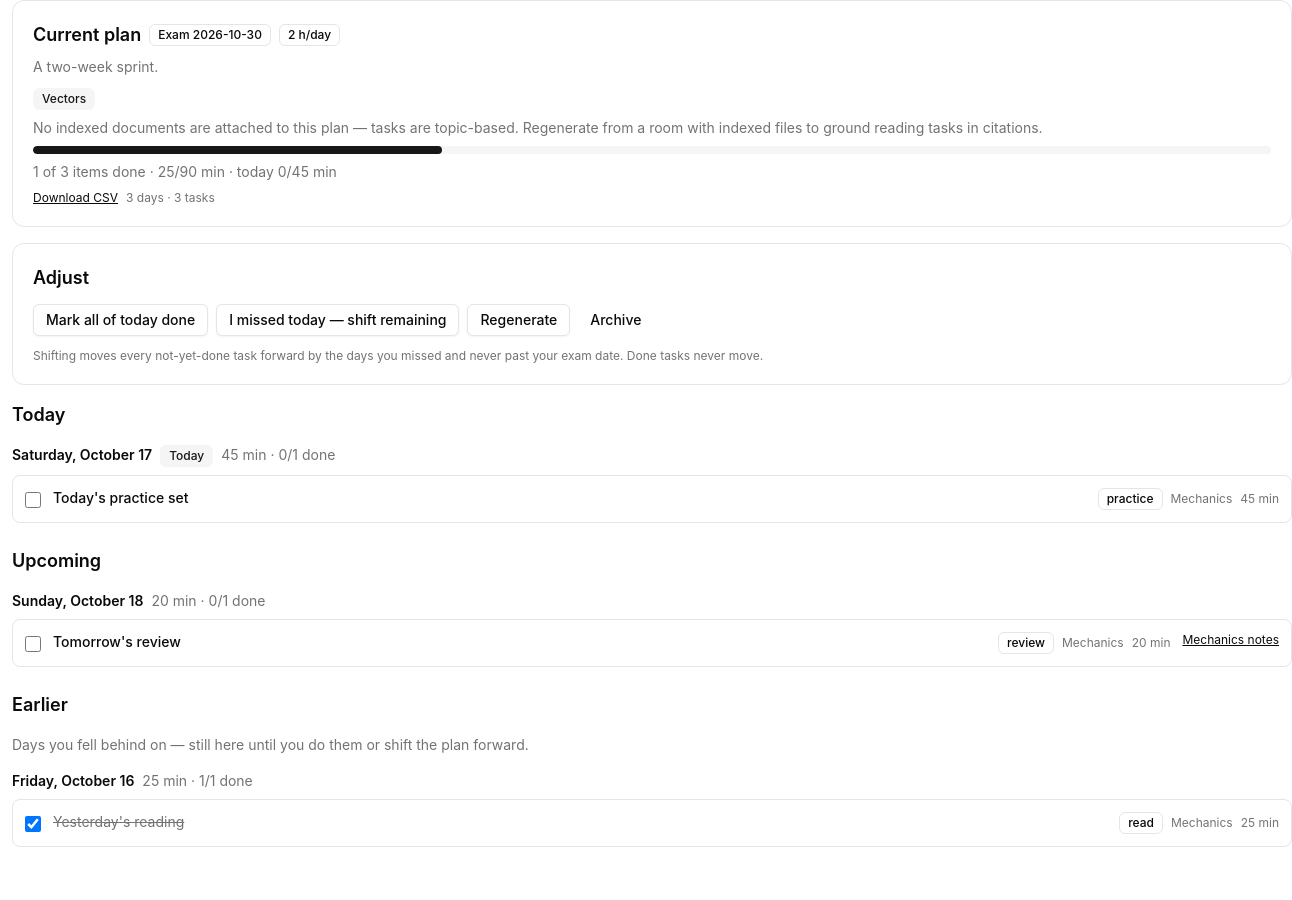
it: PlanView › toggles a checkbox optimistically and applies the server's done_at
This screenshot has width=1292, height=900.
Click the checkbox labelled "Today's practice set" at (33, 500), box x1=25 y1=492 x2=41 y2=508
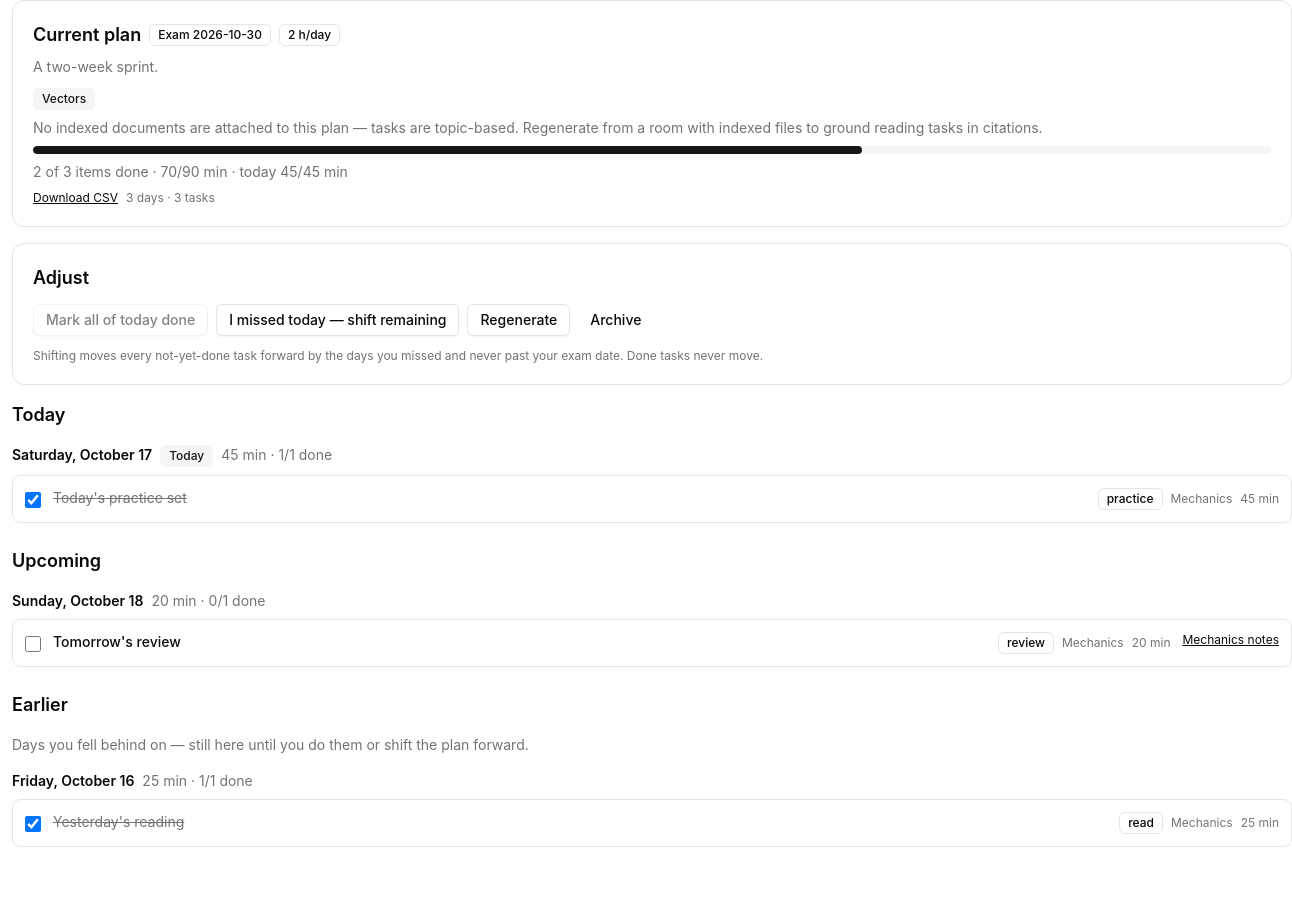
Expected: the checkbox labelled "Today's practice set" is checked, x1=25 y1=492 x2=41 y2=508
Expected: the text "2 of 3 items done · 70/90 min · today 45/45 min" is shown, x1=33 y1=163 x2=348 y2=180
